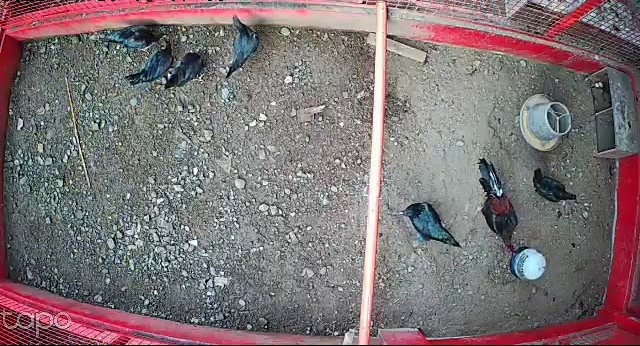Chicken: (396, 201, 463, 248), (216, 14, 261, 80), (125, 39, 173, 88), (97, 25, 172, 55), (164, 47, 206, 92), (529, 167, 579, 203)
Drinker: (510, 245, 546, 281)
Feeder: (519, 90, 572, 153)
Rooster: (471, 156, 519, 257)
